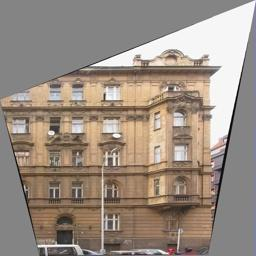building: (5, 32, 214, 256)
